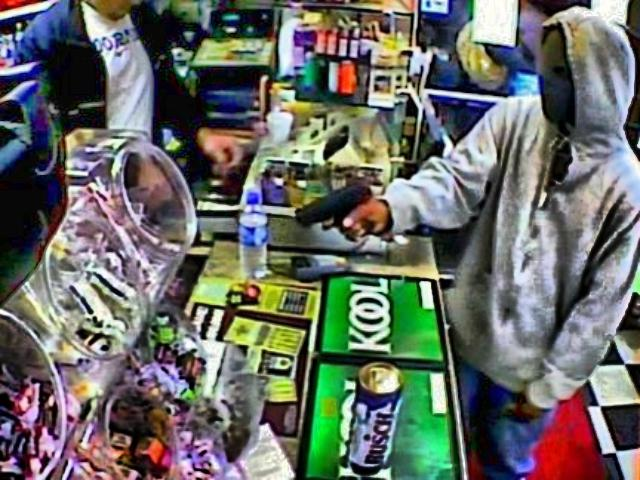pistol: (286, 178, 380, 240)
